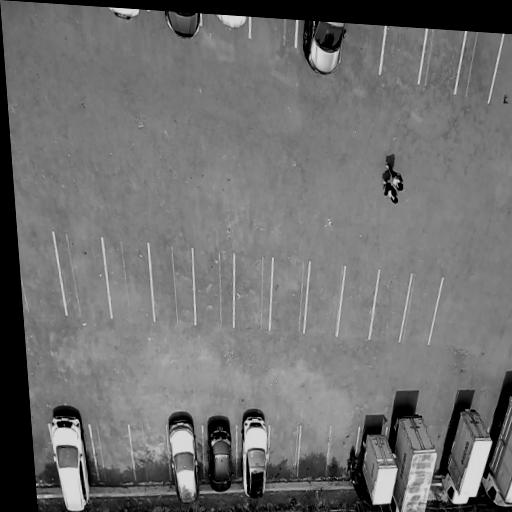Car: (435, 399, 494, 512), (387, 408, 440, 512), (48, 408, 95, 512), (232, 406, 276, 507), (354, 424, 400, 512), (164, 410, 204, 507), (481, 389, 512, 510), (200, 412, 241, 502), (297, 20, 349, 82), (162, 11, 203, 45), (215, 14, 249, 34), (103, 7, 142, 23)
Space Available: (54, 235, 111, 319), (103, 239, 155, 322), (17, 231, 65, 314), (150, 247, 195, 326), (455, 31, 504, 103), (192, 248, 235, 329), (91, 426, 138, 491), (234, 253, 273, 331), (371, 271, 413, 343), (420, 30, 466, 94), (401, 275, 443, 345), (305, 264, 345, 337), (339, 269, 379, 341), (272, 259, 310, 334), (129, 425, 170, 489), (381, 27, 427, 84), (341, 23, 386, 74), (31, 423, 60, 493), (268, 426, 301, 483), (298, 429, 331, 480), (252, 17, 297, 48)
